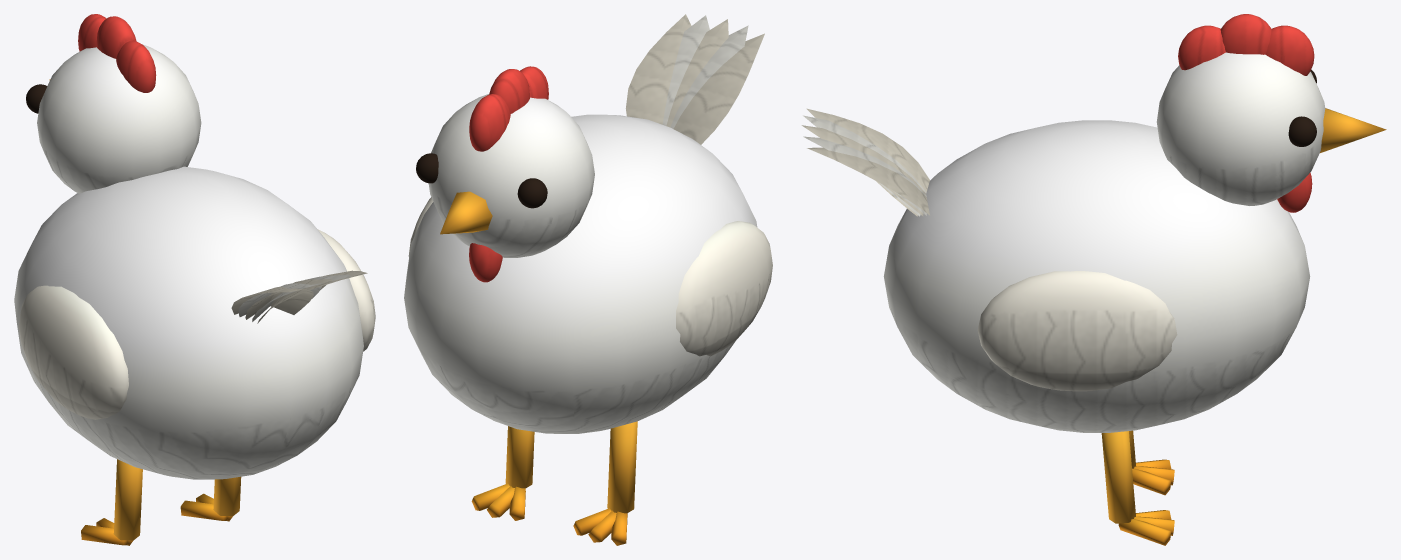
The model's file is chicken.glb.
3 renders of one model, left to right at view 1: azimuth 30°, elevation 25°; view 2: azimuth 150°, elevation 25°; view 3: azimuth 270°, elevation 25°, orthographic. The views are drawn at different scales.
Visible parts, largest first — view 1: Body, Head; view 2: Body, Head; view 3: Body, Head.
Part boxes in pixels (<box>): Body: <box>14,166,375,545</box>; Head: <box>26,14,201,193</box>; Body: <box>404,14,772,545</box>; Head: <box>416,66,594,282</box>; Body: <box>801,108,1310,545</box>; Head: <box>1156,14,1386,212</box>.
Bounding box in the file's own units: 0.424 × 0.6399 × 0.6871.
Materials: 1 (1 with a texture image).
